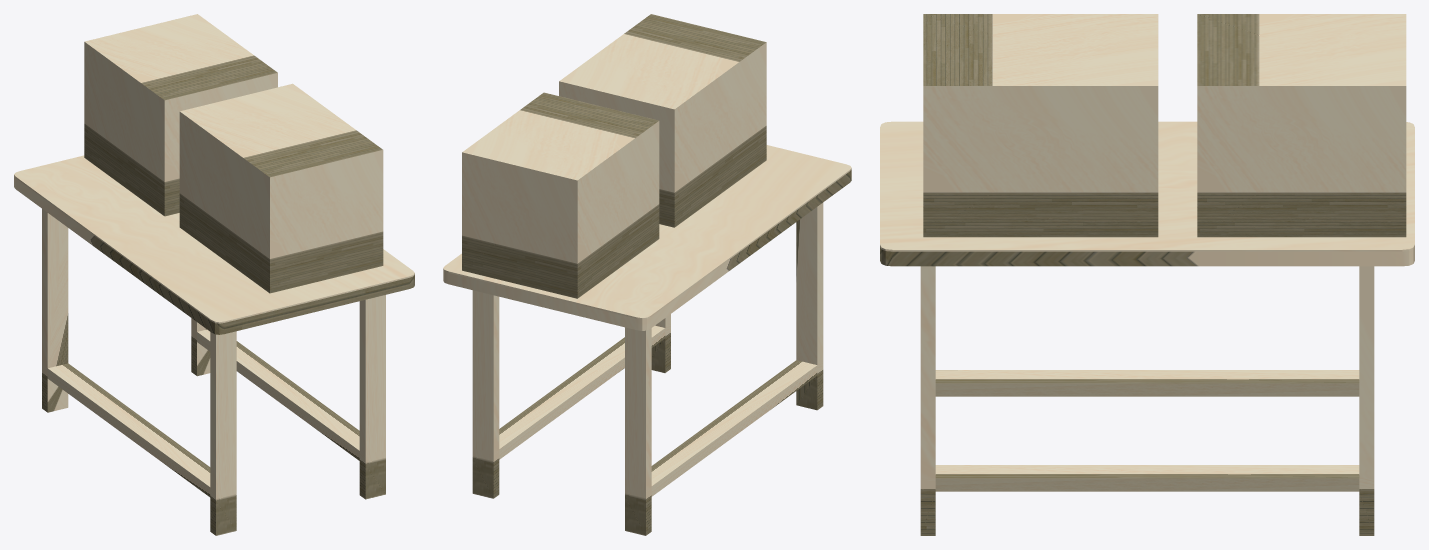
The model's file is aws_robomaker_warehouse_DeskC_01_collision.DAE.
3 views of the same model, side by side, from view 1: azimuth 30°, elevation 25°; view 2: azimuth 150°, elevation 25°; view 3: azimuth 270°, elevation 25° (orthographic). The views are drawn at different scales.
Parts seen in each view (by area): view 1: aws_robomaker_warehouse_DeskC_01_collision; view 2: aws_robomaker_warehouse_DeskC_01_collision; view 3: aws_robomaker_warehouse_DeskC_01_collision.
Boxes of the visible parts, x1,y1,x2,y2 form: aws_robomaker_warehouse_DeskC_01_collision: [14, 14, 414, 535]; aws_robomaker_warehouse_DeskC_01_collision: [443, 14, 851, 535]; aws_robomaker_warehouse_DeskC_01_collision: [880, 14, 1414, 535].
Bounding box in the file's own units: 88.19 × 156 × 144.
